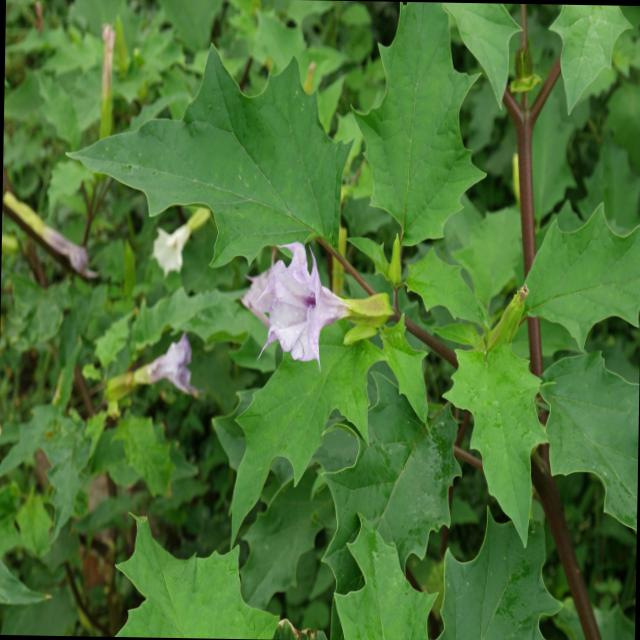Poisonous-Datura_Stramonium: (1, 0, 241, 638), (402, 1, 640, 640), (228, 227, 424, 402)
